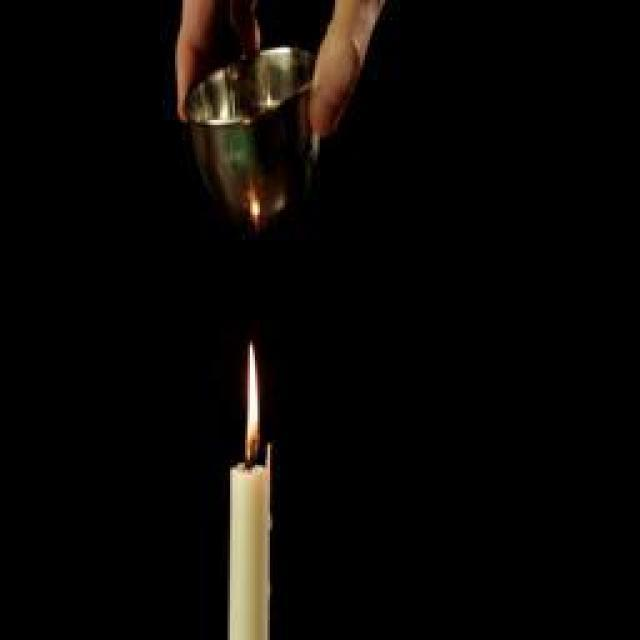Fire: (246, 340, 262, 460)
